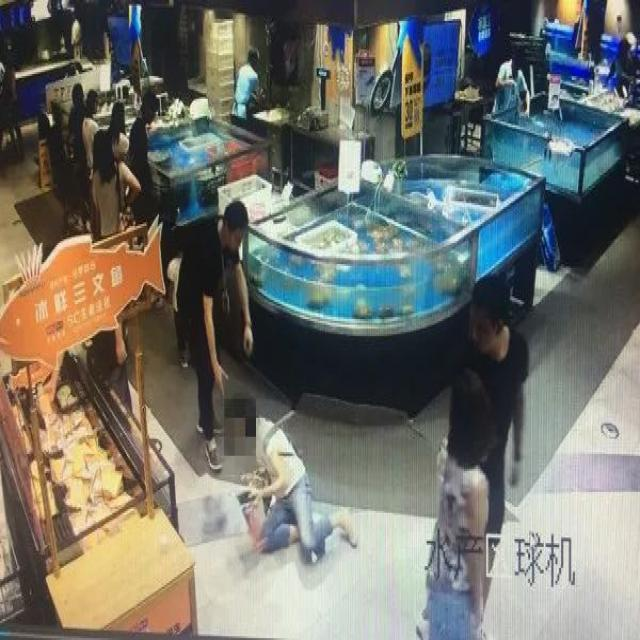10-: (0, 0, 639, 638)
down: (209, 376, 358, 591)
